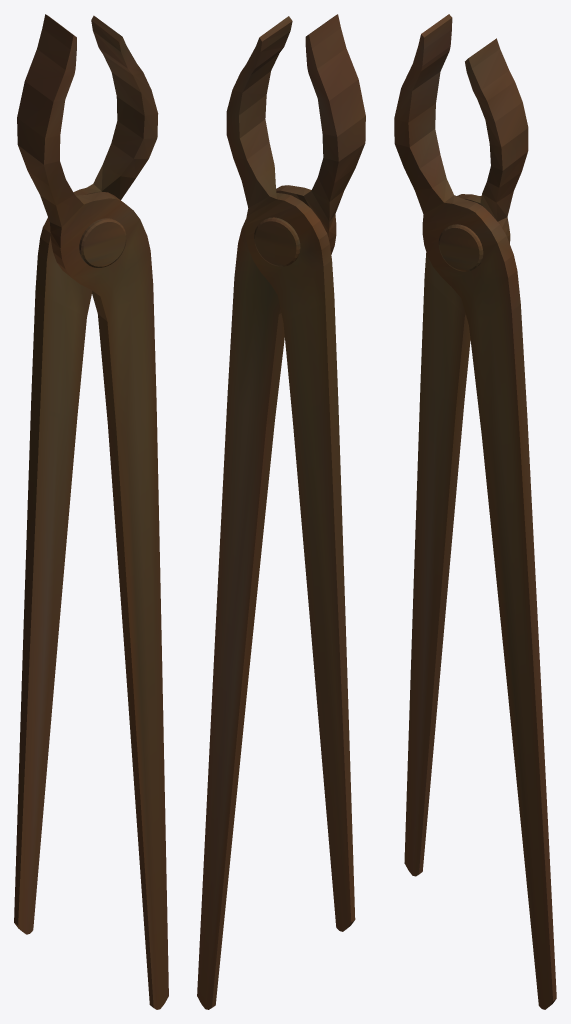
The model's file is pincers_45576856.glb.
3 renders of one model, left to right at view 1: azimuth 30°, elevation 25°; view 2: azimuth 150°, elevation 25°; view 3: azimuth 330°, elevation 25°, orthographic. The views are drawn at different scales.
Parts seen in each view (by area): view 1: SM_Pincers01a_M_Pincers01a_0; view 2: SM_Pincers01a_M_Pincers01a_0; view 3: SM_Pincers01a_M_Pincers01a_0.
Part boxes in pixels (bbox=[...]): SM_Pincers01a_M_Pincers01a_0: bbox=[14, 14, 168, 1009]; SM_Pincers01a_M_Pincers01a_0: bbox=[197, 14, 365, 1009]; SM_Pincers01a_M_Pincers01a_0: bbox=[394, 14, 556, 1009].
Bounding box in the file's own units: 0.0662 × 0.4183 × 0.0225.
